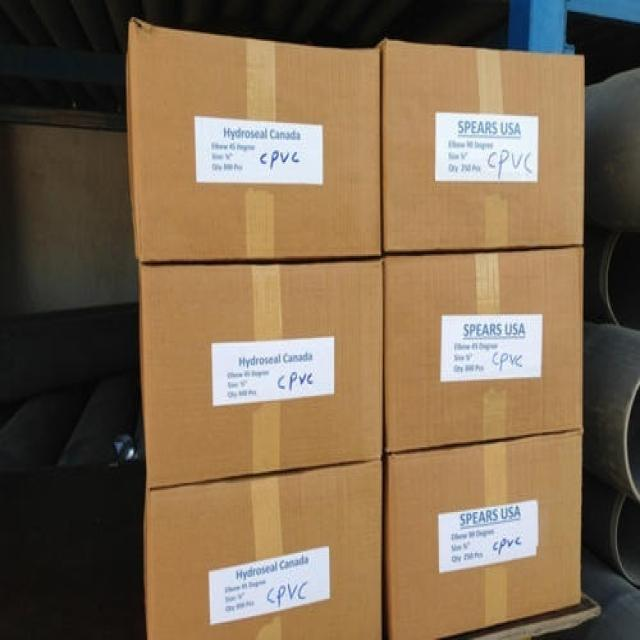box: (124, 15, 381, 261), (138, 258, 384, 488), (379, 38, 584, 251), (380, 427, 582, 640), (143, 461, 383, 640), (383, 246, 582, 454)
